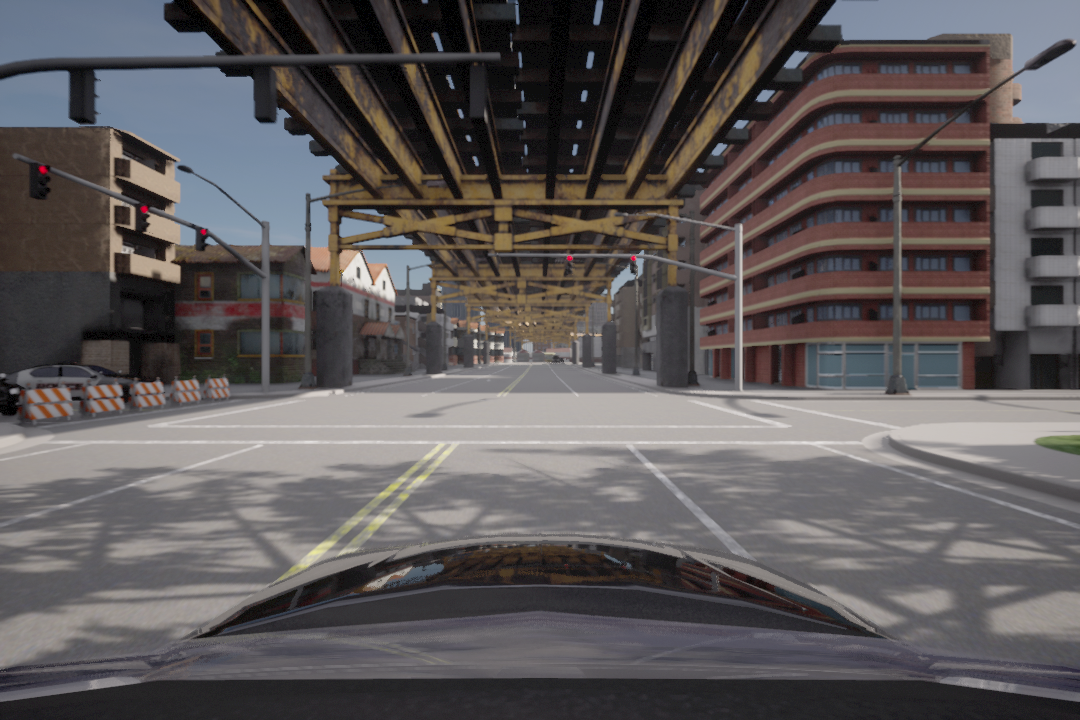TrafficLight: (27, 160, 51, 201), (131, 201, 152, 234), (564, 249, 578, 277), (197, 226, 209, 253), (628, 252, 640, 279)
